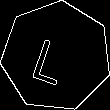L_N: (34, 28, 79, 85)
